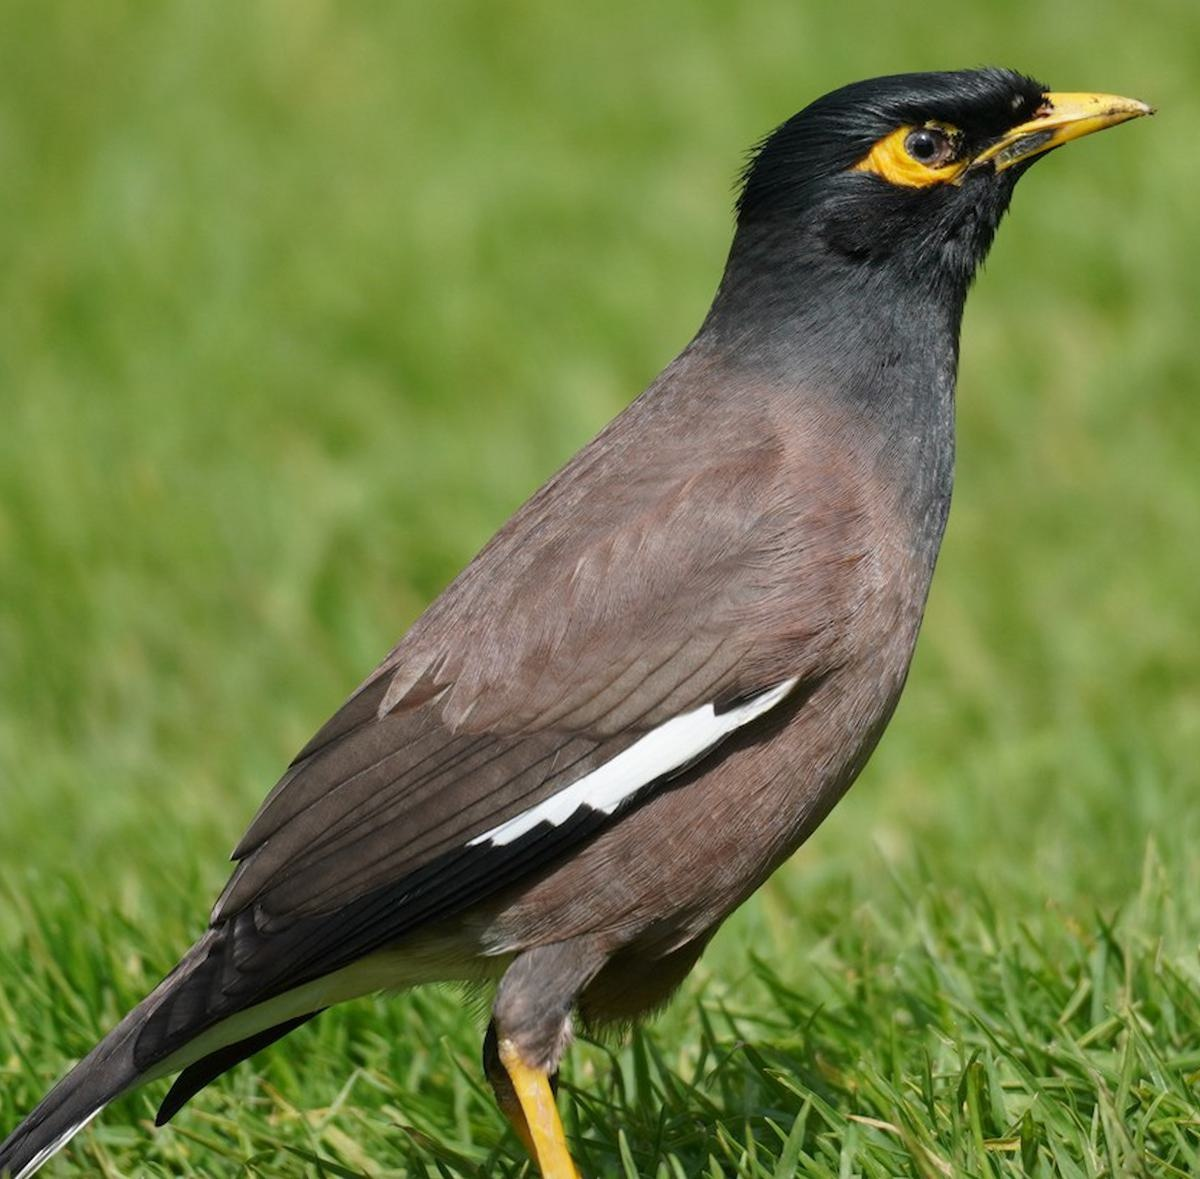myna: (96, 21, 1156, 1109)
